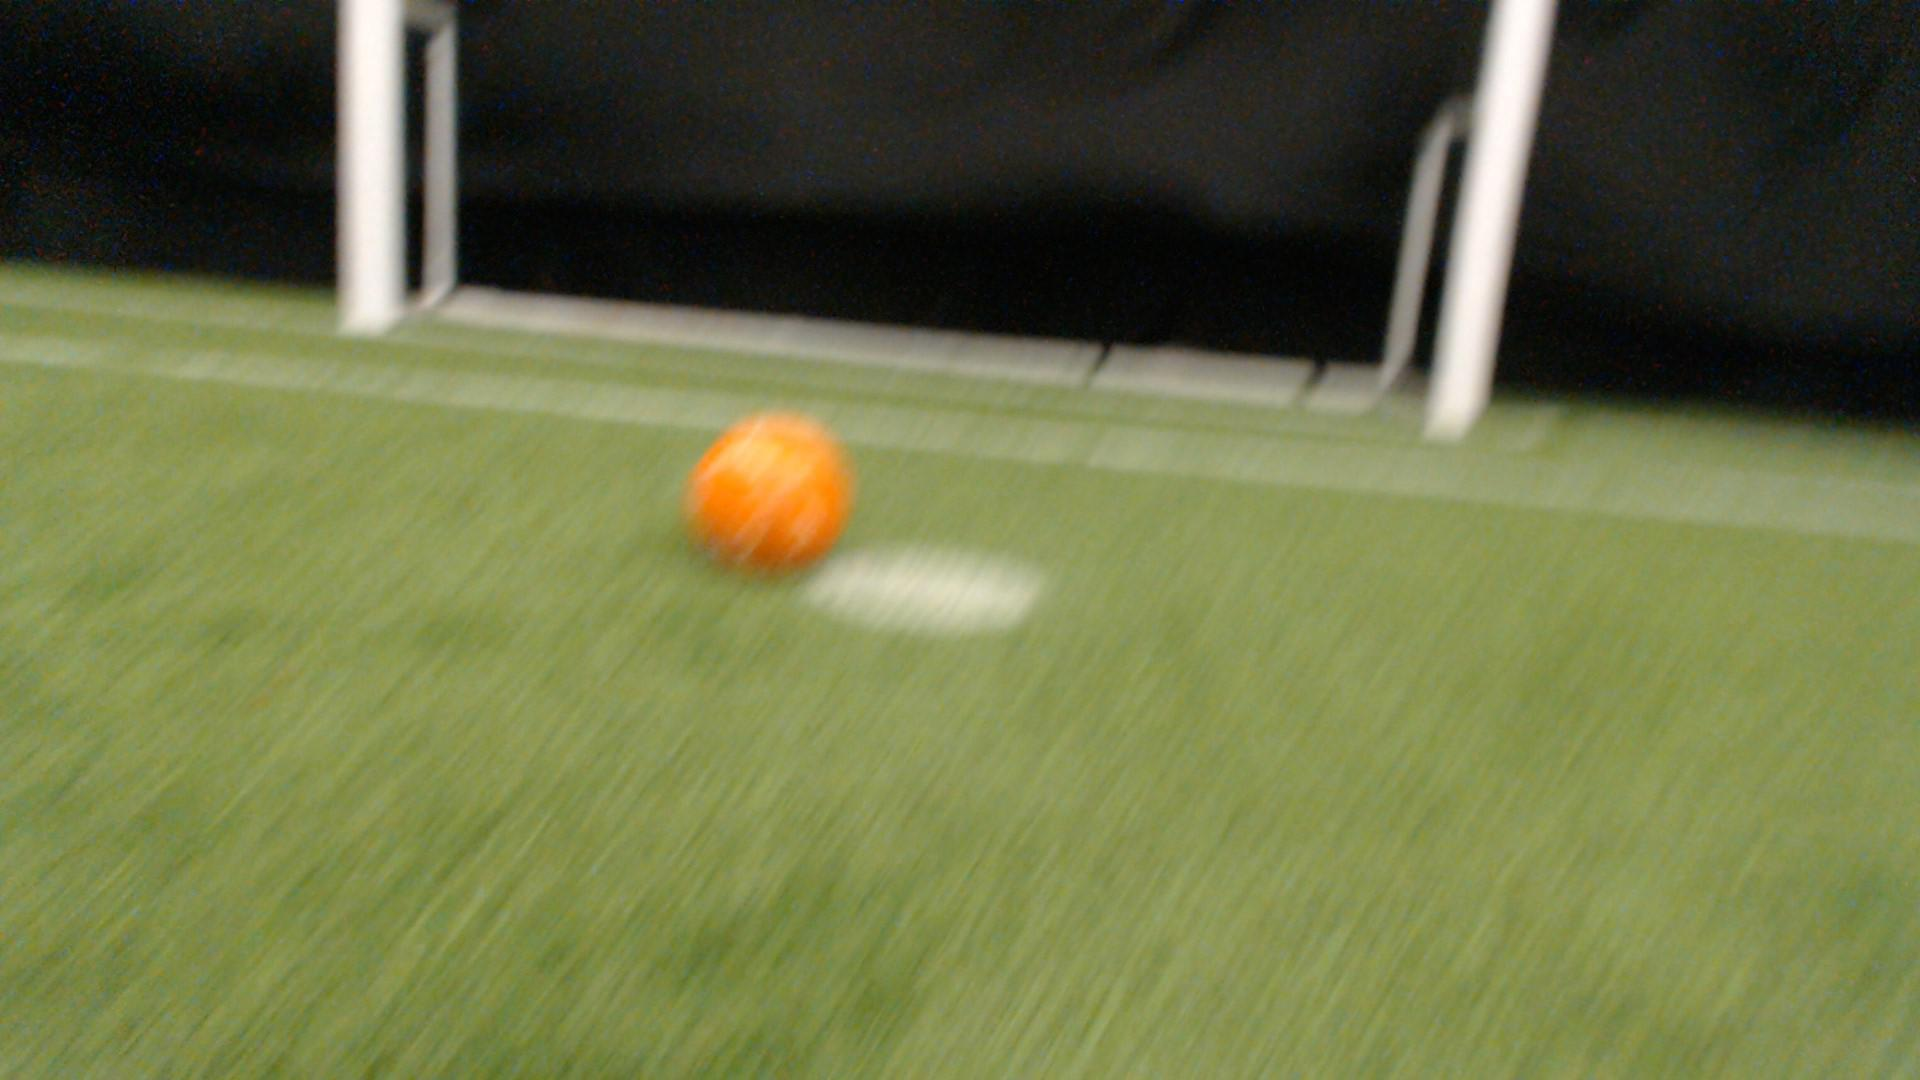bola: (669, 402, 872, 600)
